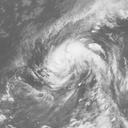cyclone: (38, 38, 105, 96)
